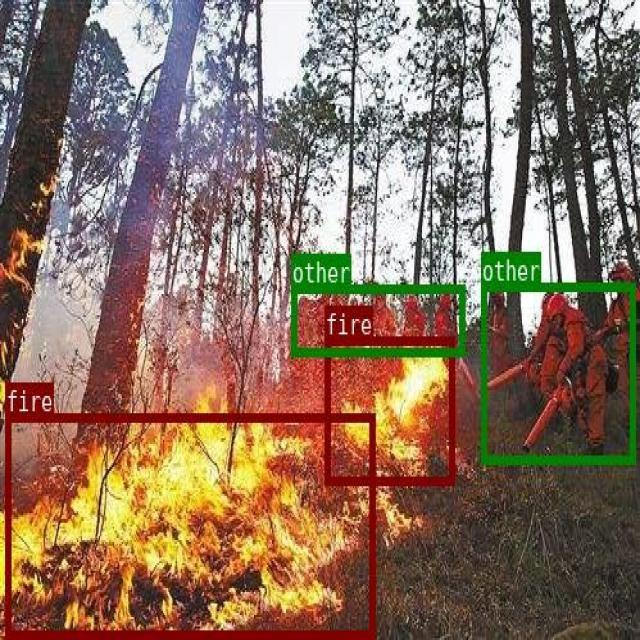fire: (5, 413, 374, 636), (325, 336, 454, 483)
